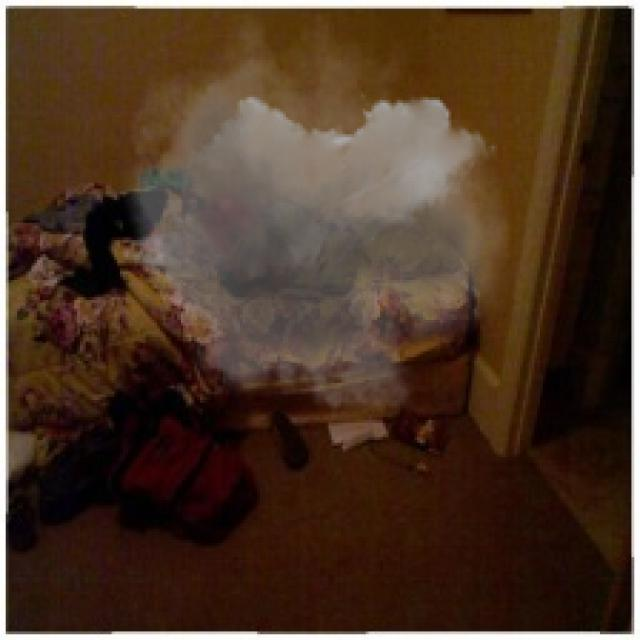smoke: (109, 11, 512, 432)
